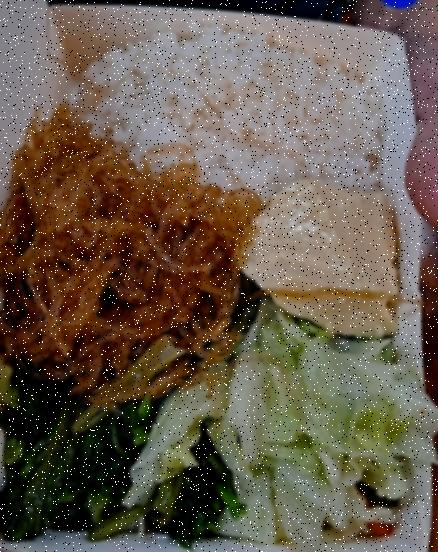box: (8, 12, 428, 552)
side dish: (6, 109, 256, 386), (128, 312, 415, 542), (6, 369, 238, 546), (240, 178, 406, 338)
white rice: (77, 24, 390, 200)
